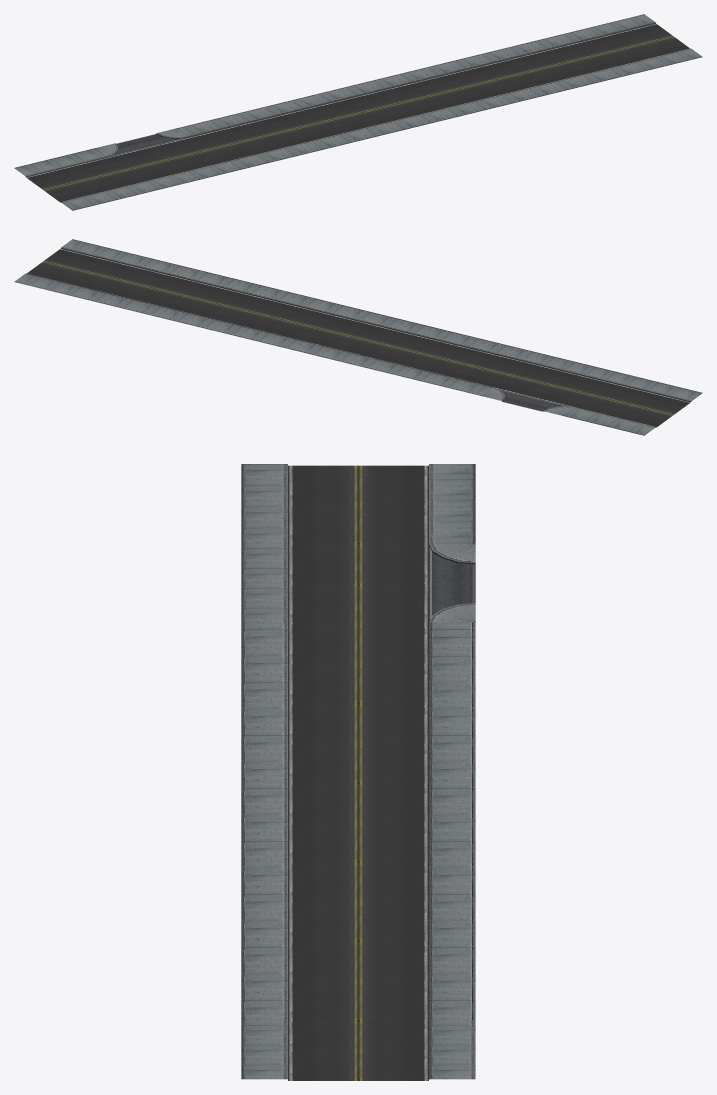
Rendered from laeroad35.obj.
The picture shows the model from 3 angles, top to bottom: view 1: azimuth 30°, elevation 25°; view 2: azimuth 150°, elevation 25°; view 3: azimuth 270°, elevation 25°; orthographic projection. The views are drawn at different scales.
Parts seen in each view (by area): view 1: laeroad35; view 2: laeroad35; view 3: laeroad35.
Part boxes in pixels (x1,y1,x2,y2): laeroad35: (14, 14, 702, 210); laeroad35: (14, 239, 702, 435); laeroad35: (241, 464, 475, 1080).
Bounding box in the file's own units: 155 × 0.185 × 25.
